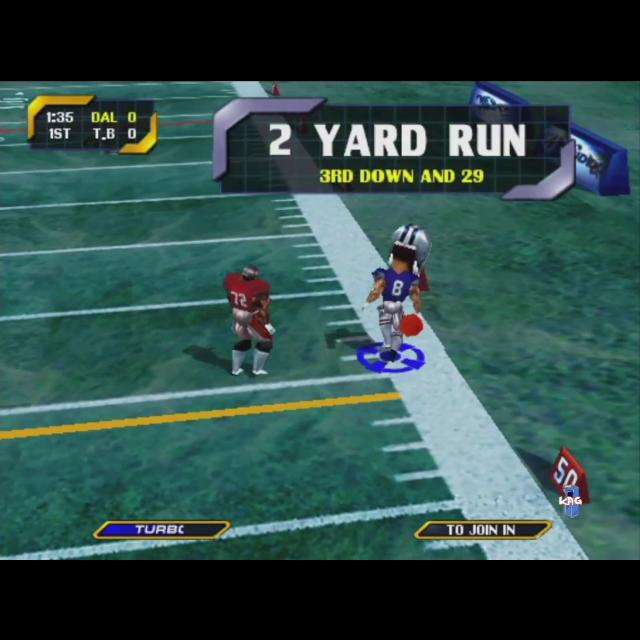player: (362, 223, 432, 361), (223, 262, 275, 376)
